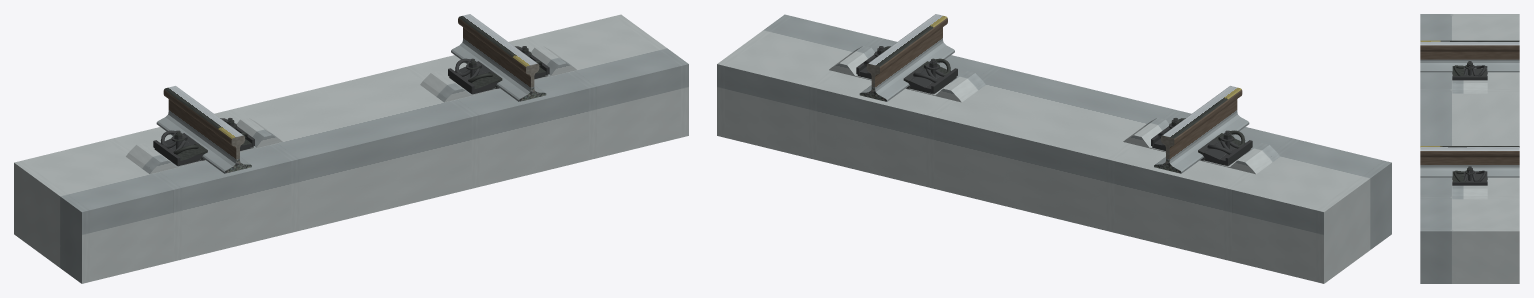
Rendered from slab_high.obj.
3 views of the same model, side by side, from view 1: azimuth 30°, elevation 25°; view 2: azimuth 150°, elevation 25°; view 3: azimuth 270°, elevation 25° (orthographic). The views are drawn at different scales.
Visible parts, largest first — view 1: slab_bed, rail_left, rail_right, sleeper, fastener_right, fastener_left; view 2: slab_bed, rail_left, rail_right, sleeper, fastener_right, fastener_left; view 3: slab_bed, rail_left, rail_right, sleeper, fastener_left, fastener_right.
Part boxes in pixels (x1=…): slab_bed: x1=14, y1=14, x2=688, y2=283; rail_left: x1=156, y1=86, x2=250, y2=173; rail_right: x1=451, y1=14, x2=544, y2=101; sleeper: x1=126, y1=45, x2=576, y2=174; fastener_right: x1=448, y1=46, x2=549, y2=94; fastener_left: x1=153, y1=118, x2=254, y2=166; slab_bed: x1=717, y1=14, x2=1391, y2=283; rail_left: x1=1155, y1=86, x2=1249, y2=173; rail_right: x1=861, y1=14, x2=954, y2=101; sleeper: x1=829, y1=45, x2=1279, y2=174; fastener_right: x1=856, y1=46, x2=957, y2=94; fastener_left: x1=1151, y1=118, x2=1252, y2=166; slab_bed: x1=1420, y1=14, x2=1519, y2=283; rail_left: x1=1420, y1=40, x2=1519, y2=72; rail_right: x1=1420, y1=146, x2=1519, y2=177; sleeper: x1=1452, y1=74, x2=1487, y2=199; fastener_left: x1=1452, y1=61, x2=1487, y2=80; fastener_right: x1=1452, y1=166, x2=1487, y2=185.
Bounding box in the file's own units: 3.1 × 0.5324 × 0.6.
